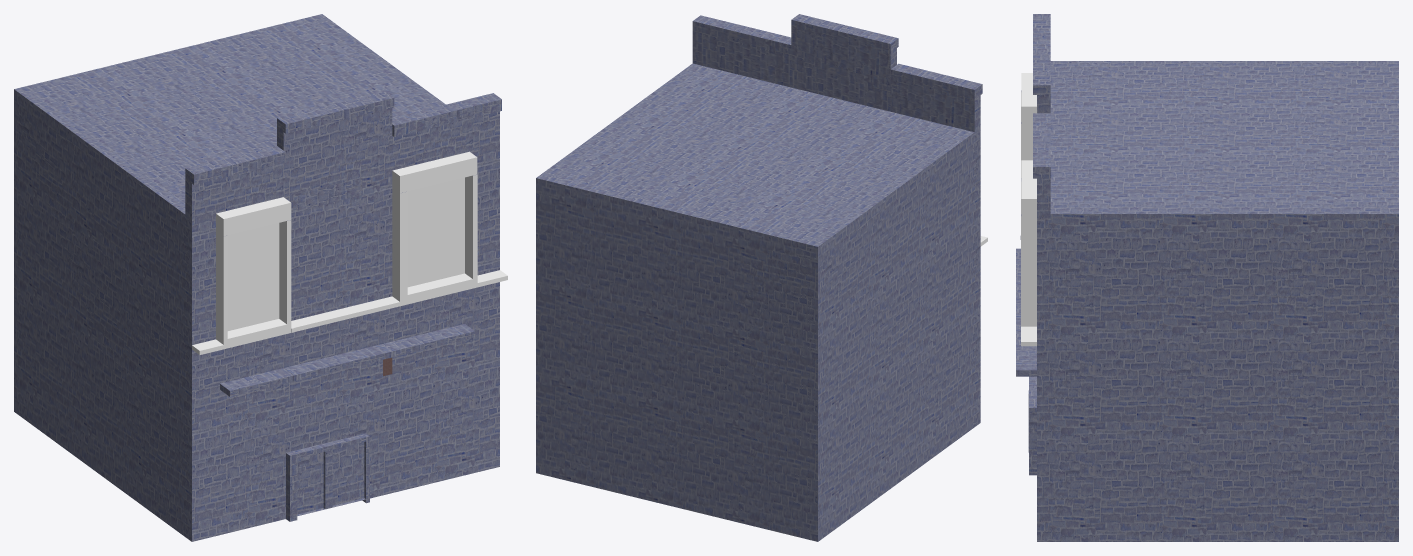
The model's file is building_two_bluebrick.fbx.
The picture shows the model from 3 angles, left to right: view 1: azimuth 30°, elevation 25°; view 2: azimuth 150°, elevation 25°; view 3: azimuth 270°, elevation 25°; orthographic projection. The views are drawn at different scales.
Parts seen in each view (by area): view 1: house; view 2: house; view 3: house.
Boxes of the visible parts, left/top/right/bottom form: house: left=14, top=14, right=507, bottom=541; house: left=536, top=14, right=987, bottom=541; house: left=1016, top=14, right=1398, bottom=541.
Size of the model in its own units: 3.48 by 4.28 by 3.68.
